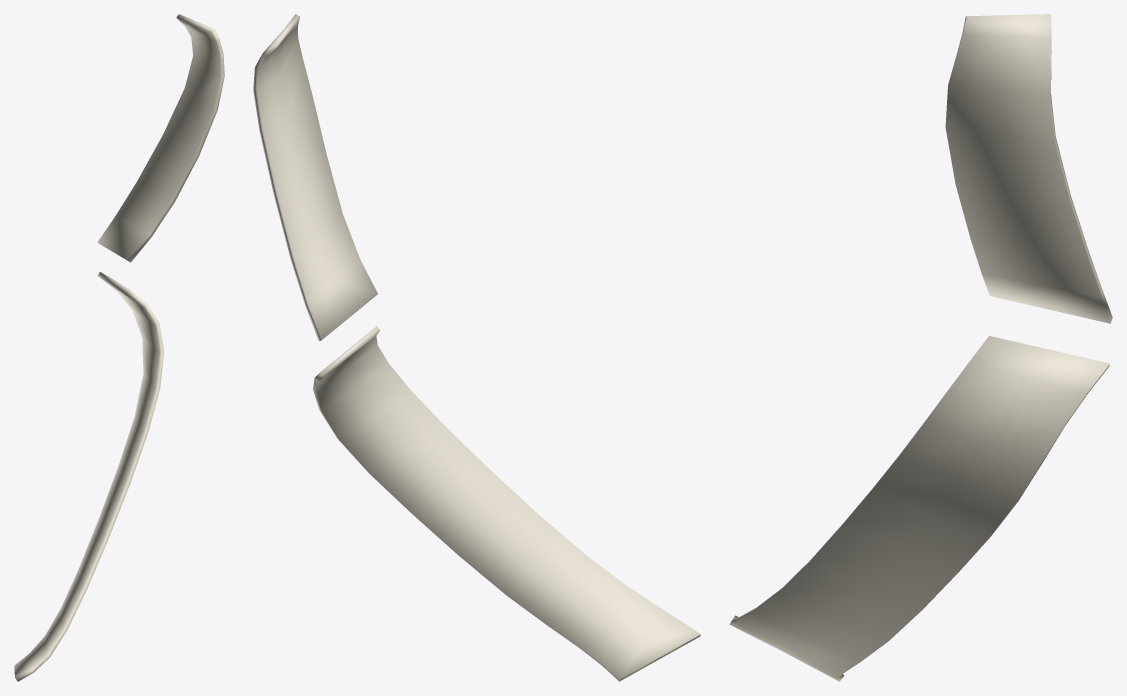
The picture shows the model from 3 angles, left to right: view 1: azimuth 30°, elevation 25°; view 2: azimuth 150°, elevation 25°; view 3: azimuth 270°, elevation 25°; orthographic projection. The views are drawn at different scales.
Visible parts, largest first — view 1: ZA_bcf9eab40ea135e9; view 2: ZA_bcf9eab40ea135e9; view 3: ZA_bcf9eab40ea135e9.
Boxes of the visible parts, x1=… form: ZA_bcf9eab40ea135e9: x1=14, y1=14, x2=224, y2=681; ZA_bcf9eab40ea135e9: x1=253, y1=14, x2=700, y2=681; ZA_bcf9eab40ea135e9: x1=729, y1=14, x2=1112, y2=681.
Bounding box in the file's own units: 0.034 × 0.0628 × 0.0258.
